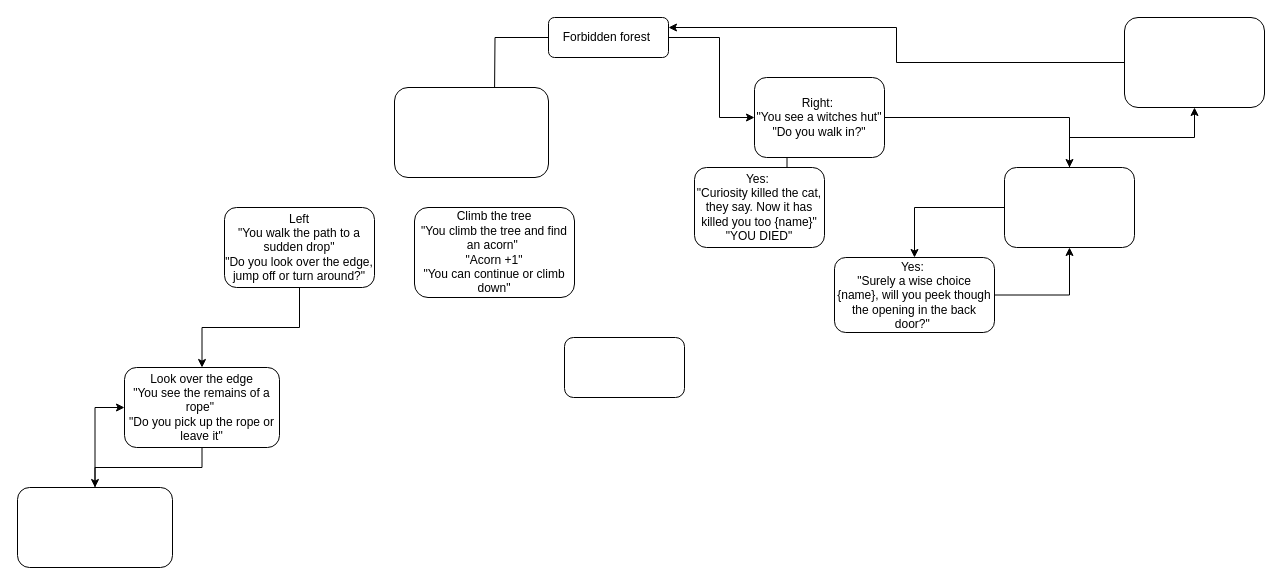
Image size: 1282x585. Some labels were removed from this diagram. Each missing label, with the centre of its shape:
Left: "You see a great tree" You can go left, right or do you climb the tree": [471,132]
No: "Probably smart, do you sneak around the back?": [1069,207]
Pick up the rope "You pick up the remains of the rope" "Remains of rope +1": [94,527]
Yes: "You are back at the to the beginning": [1194,62]
